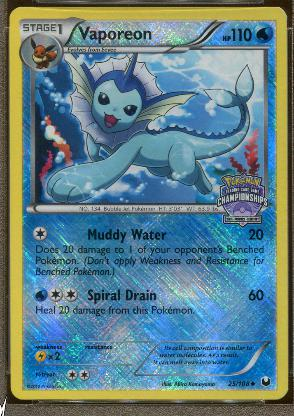Card: (4, 3, 288, 401)
